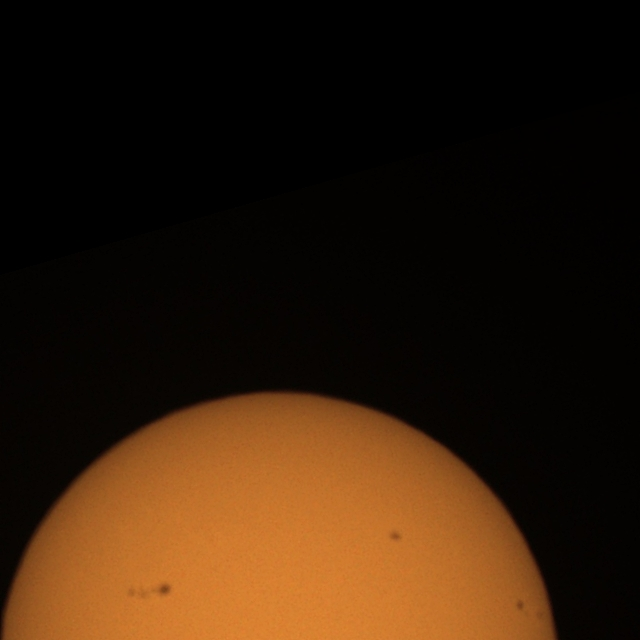sunspot: (127, 582, 173, 602), (516, 598, 544, 622), (387, 528, 404, 544), (515, 598, 525, 613)
